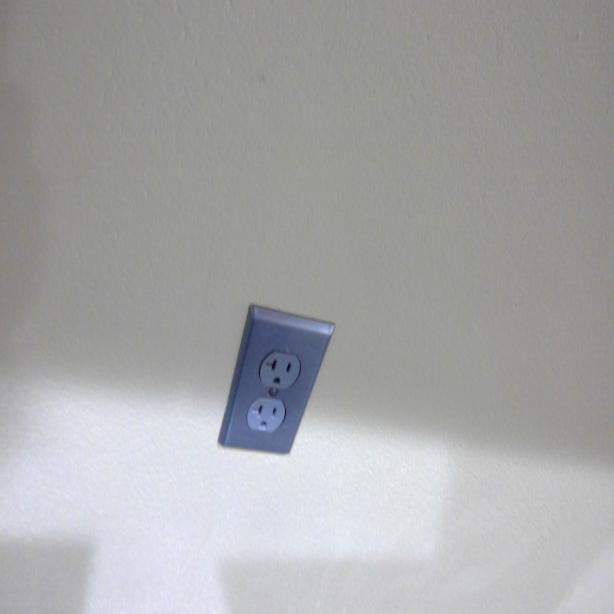typeb: (250, 395, 284, 438), (263, 351, 300, 390)
